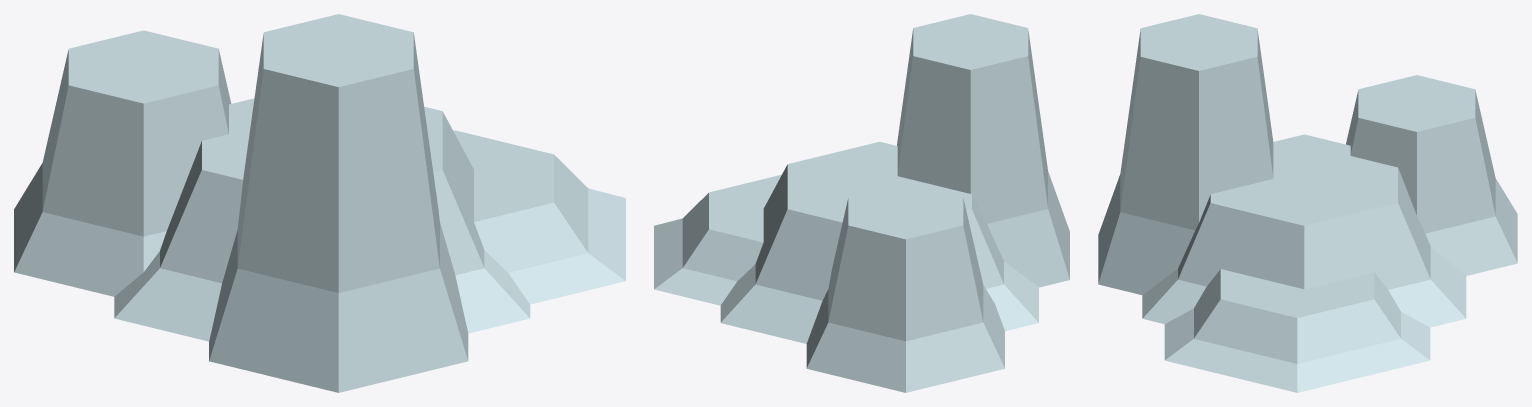
Rendered from rocks.glb.
3 views of the same model, side by side, from view 1: azimuth 30°, elevation 25°; view 2: azimuth 150°, elevation 25°; view 3: azimuth 270°, elevation 25° (orthographic). The views are drawn at different scales.
Visible parts, largest first — view 1: rocks; view 2: rocks; view 3: rocks.
Part boxes in pixels (x1,y1,x2,y2): rocks: (14, 14, 625, 392); rocks: (654, 14, 1069, 392); rocks: (1098, 14, 1517, 392).
Size of the model in its own units: 0.9342 by 0.4657 by 0.8148.
